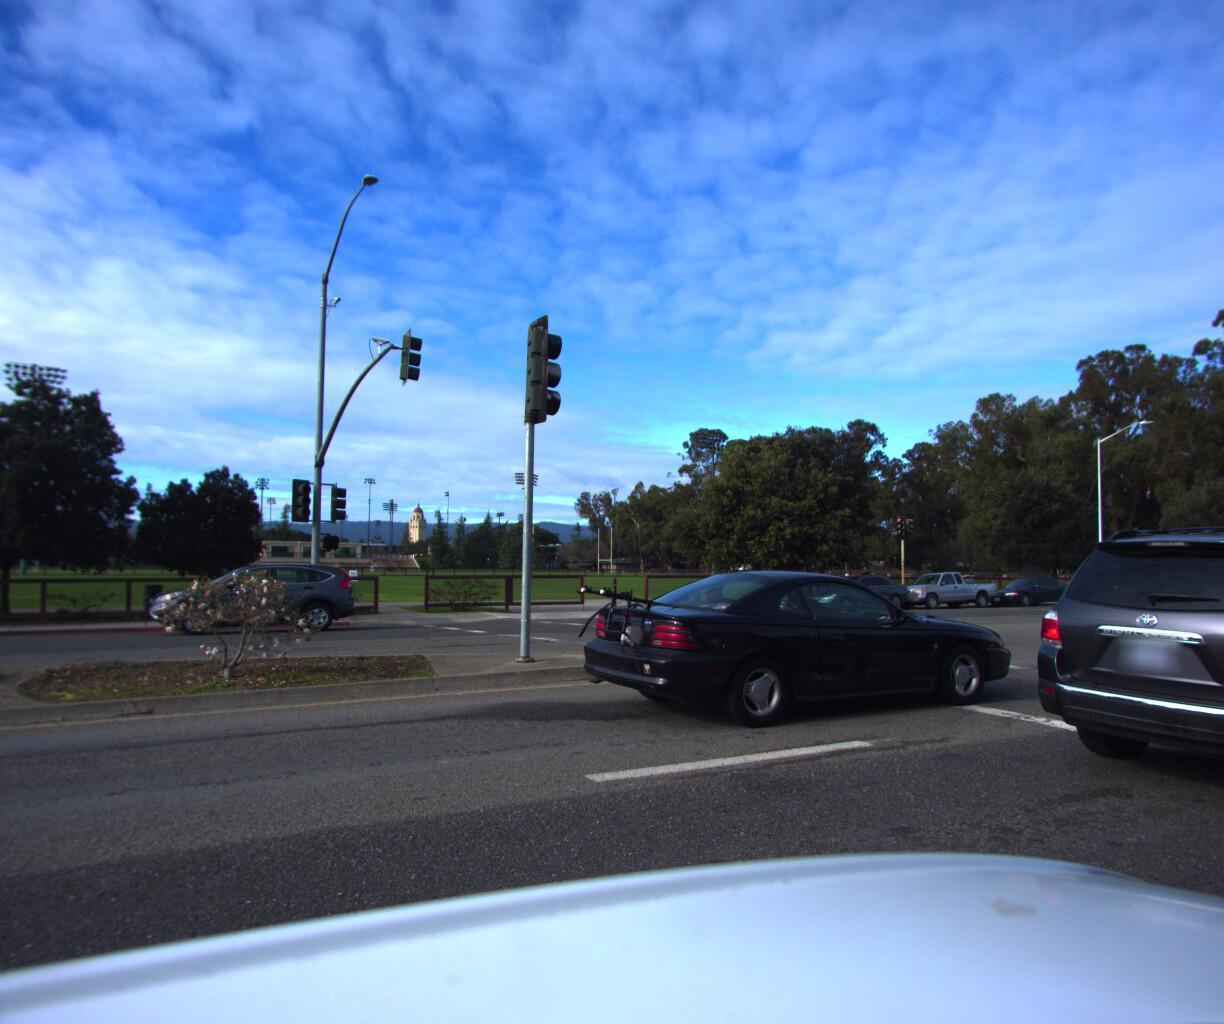car: (987, 502, 1224, 878), (540, 564, 994, 750), (145, 559, 356, 633), (787, 568, 920, 611), (883, 565, 1004, 609), (974, 570, 1077, 607)
